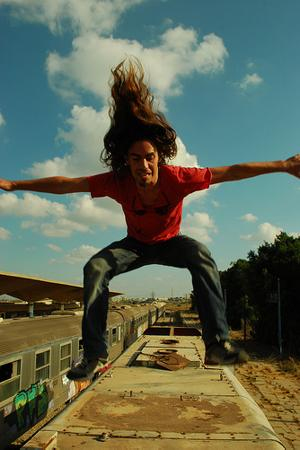person: (1, 64, 300, 381)
